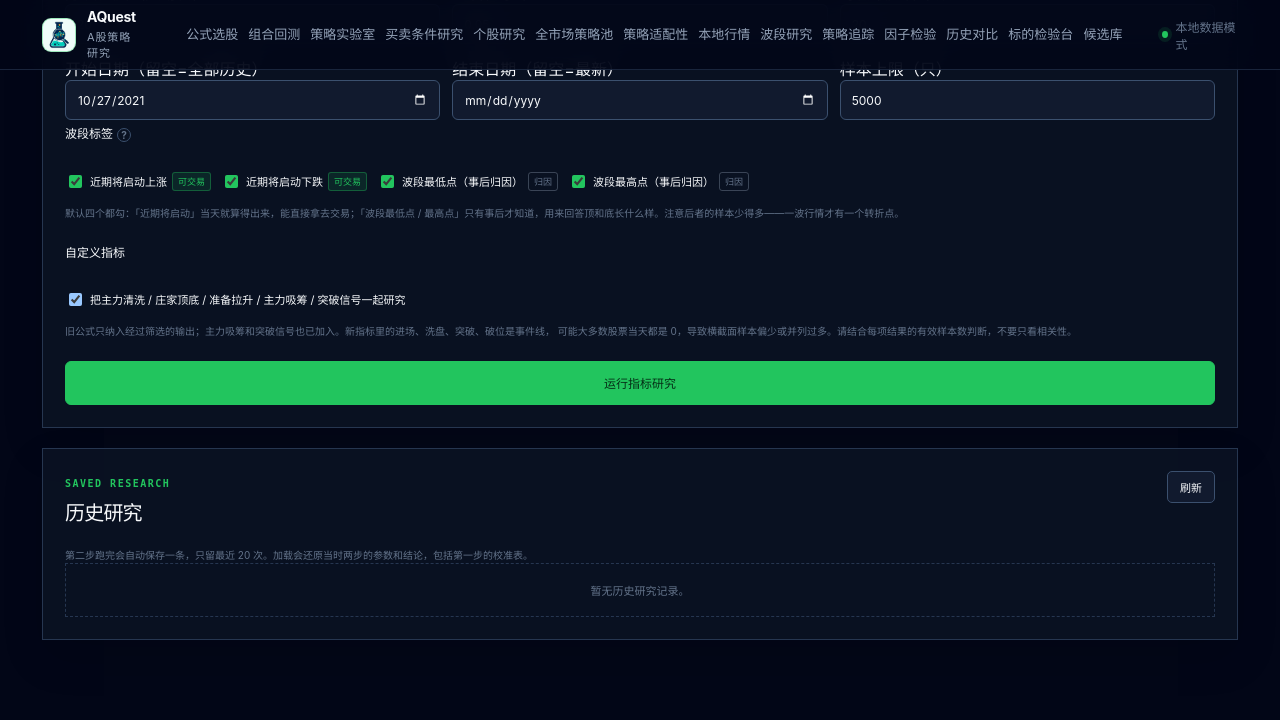
SwingResearchPage › marks a finding that cannot become a rule as reference only
The width and height of the screenshot is (1280, 720).
(page scrolled)
Click the button with test id "swing-study-run" at (640, 383), box [65, 361, 1215, 405]
(page scrolled)
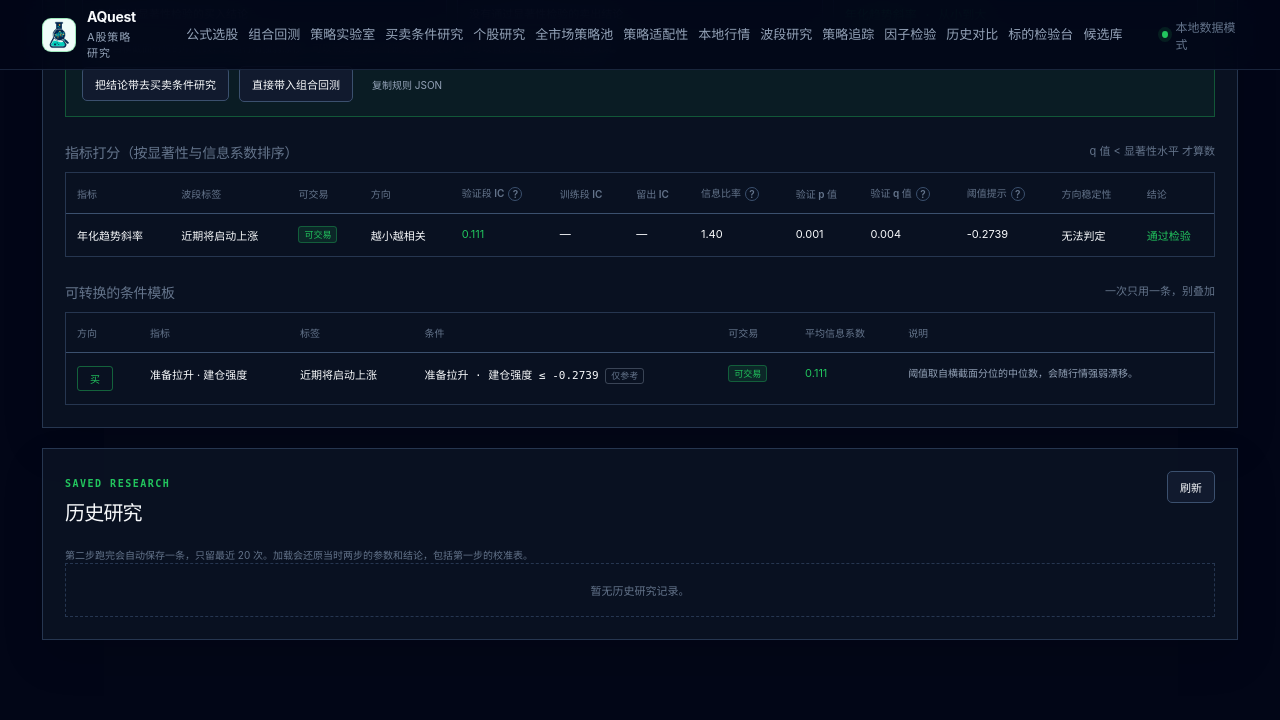
Now the row with test id "swing-template-row" shows "准备拉升 · 建仓强度", box [150, 368, 247, 382]
Now the row with test id "swing-template-row" shows "仅参考", box [611, 371, 638, 381]
